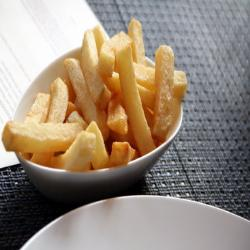fries: (14, 39, 189, 175)
